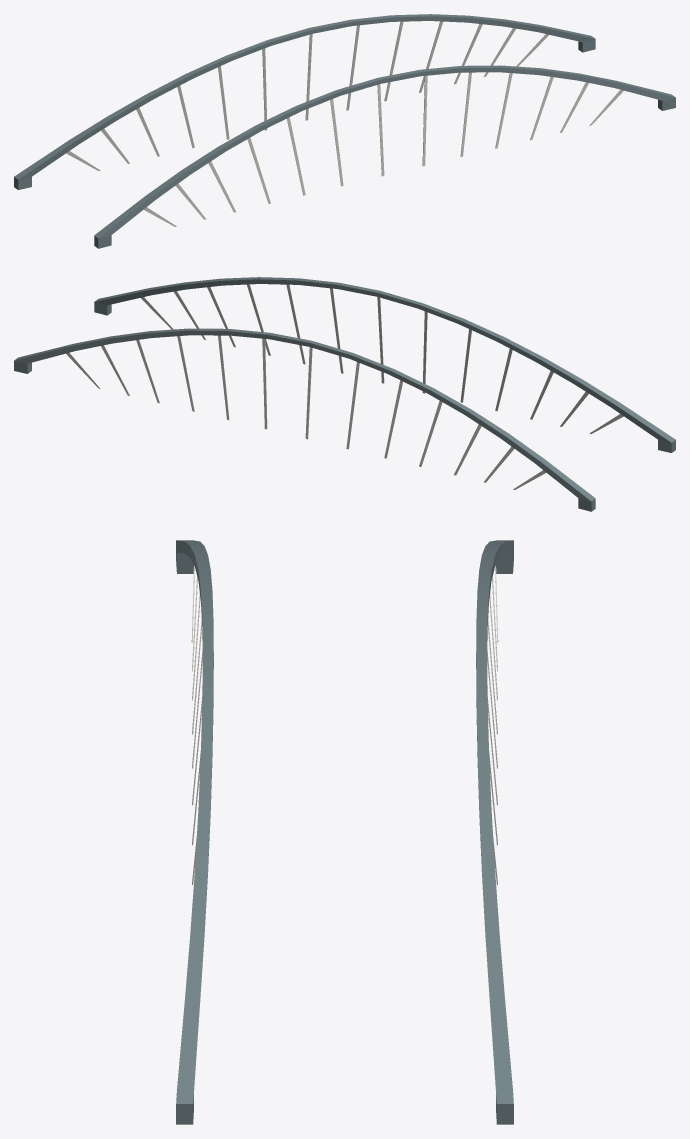
File: bridge2_arcs.fbx
3 views of the same model, one above another, from view 1: azimuth 30°, elevation 25°; view 2: azimuth 150°, elevation 25°; view 3: azimuth 270°, elevation 25° (orthographic). The views are drawn at different scales.
Visible parts, largest first — view 1: bridge2_arcs; view 2: bridge2_arcs; view 3: bridge2_arcs.
Part boxes in pixels (x1,y1,x2,y2): bridge2_arcs: (14,14,675,248); bridge2_arcs: (14,277,675,511); bridge2_arcs: (176,540,513,1124).
Size of the model in its own units: 5000 by 781 by 1266.
